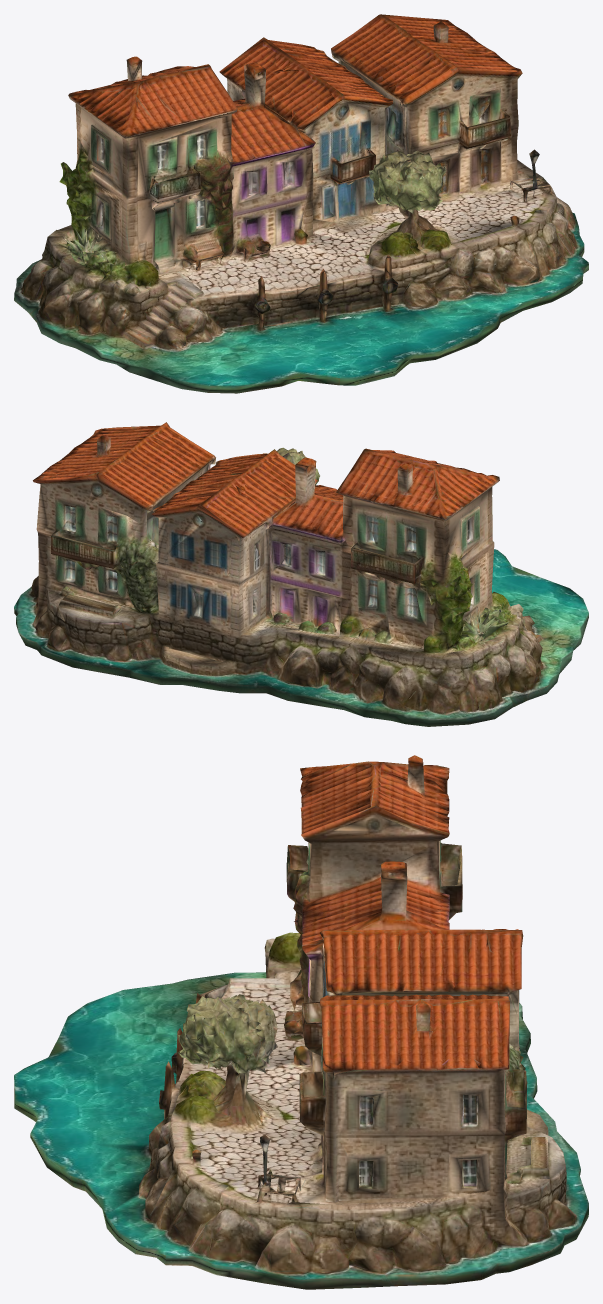
The model's file is city_balikesir_cunda_island.glb.
The picture shows the model from 3 angles, top to bottom: view 1: azimuth 30°, elevation 25°; view 2: azimuth 150°, elevation 25°; view 3: azimuth 270°, elevation 25°; orthographic projection. The views are drawn at different scales.
Parts seen in each view (by area): view 1: Mesh1.0; view 2: Mesh1.0; view 3: Mesh1.0.
Boxes of the visible parts, bbox=[...] form: Mesh1.0: bbox=[14, 14, 588, 393]; Mesh1.0: bbox=[14, 422, 588, 726]; Mesh1.0: bbox=[14, 755, 588, 1289].
Bounding box in the file's own units: 37.68 × 16 × 28.77.
1 material, 1 textured.
